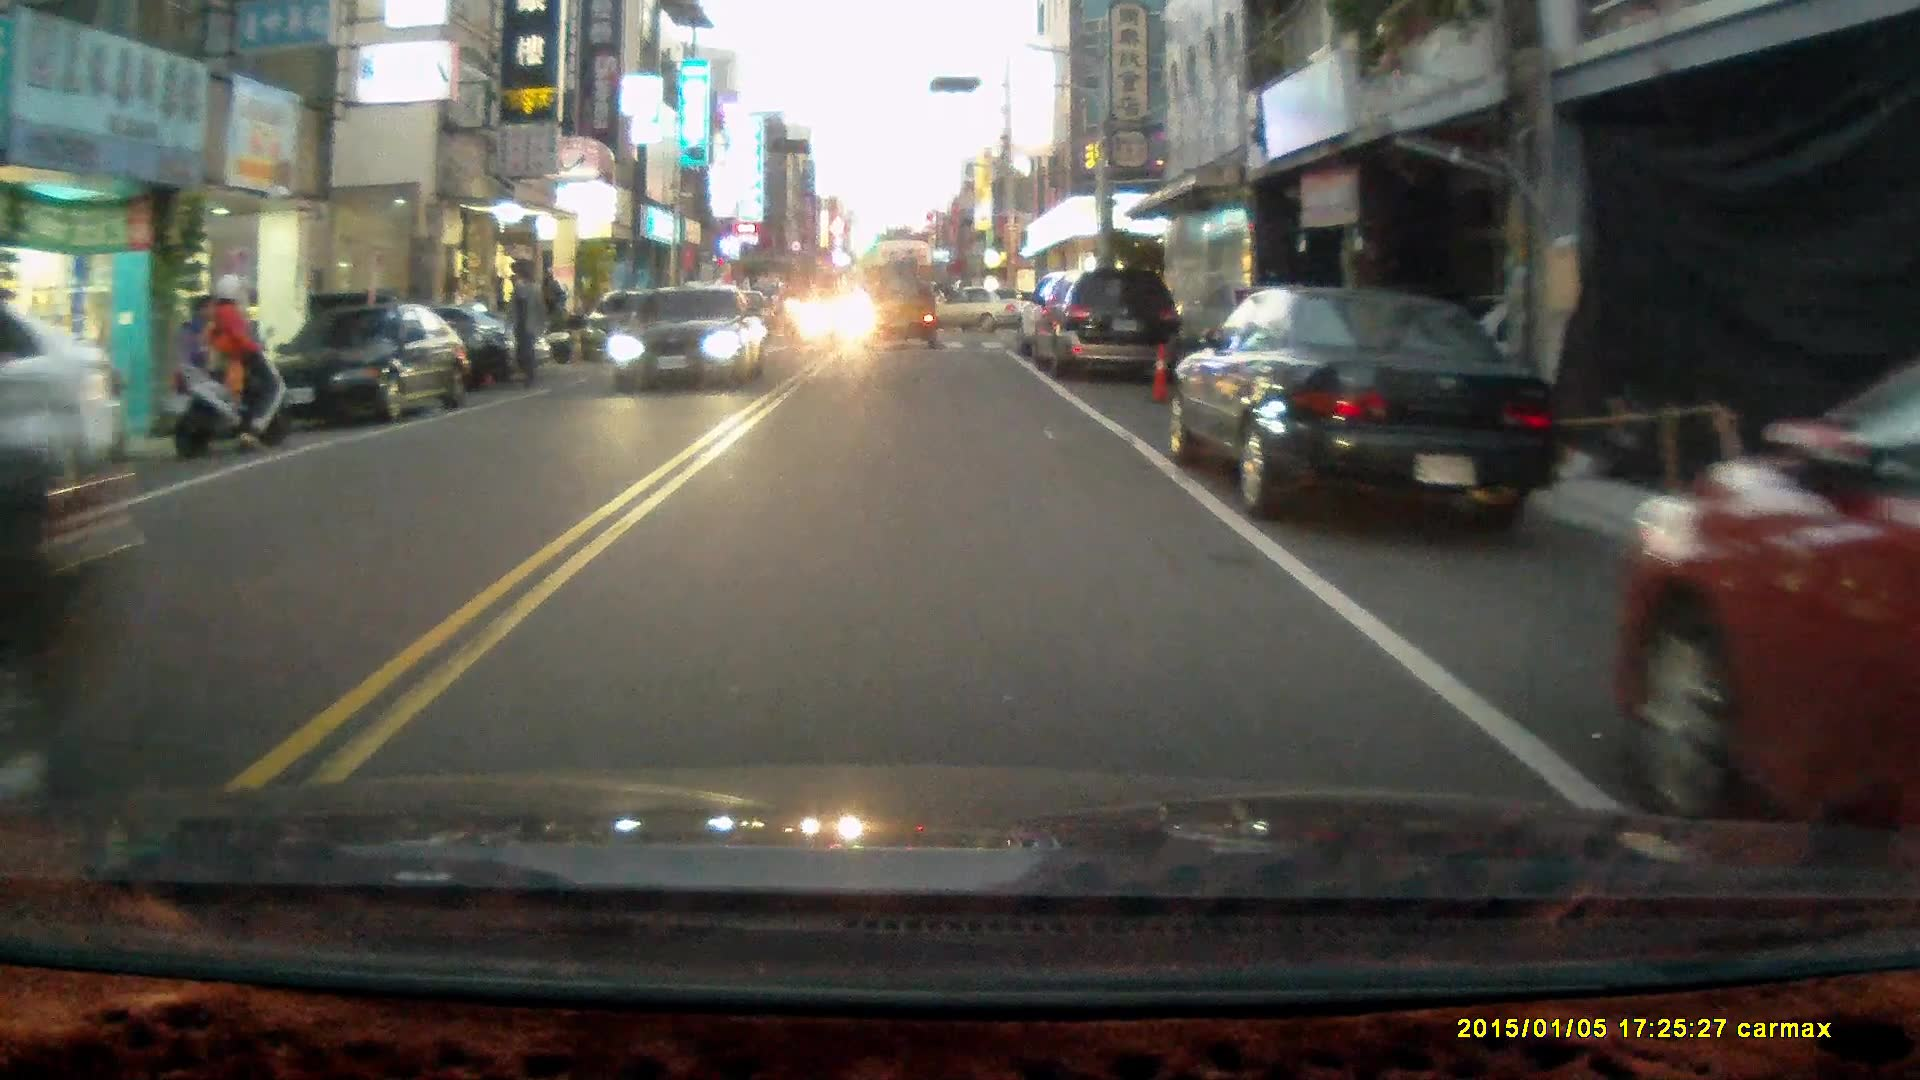pedestrian: (504, 266, 546, 390)
rider: (167, 272, 291, 450)
vehicle: (1614, 361, 1920, 869), (1164, 283, 1567, 539), (253, 298, 465, 423), (1027, 267, 1186, 382), (610, 281, 769, 390), (865, 265, 942, 354), (917, 286, 1046, 336)
